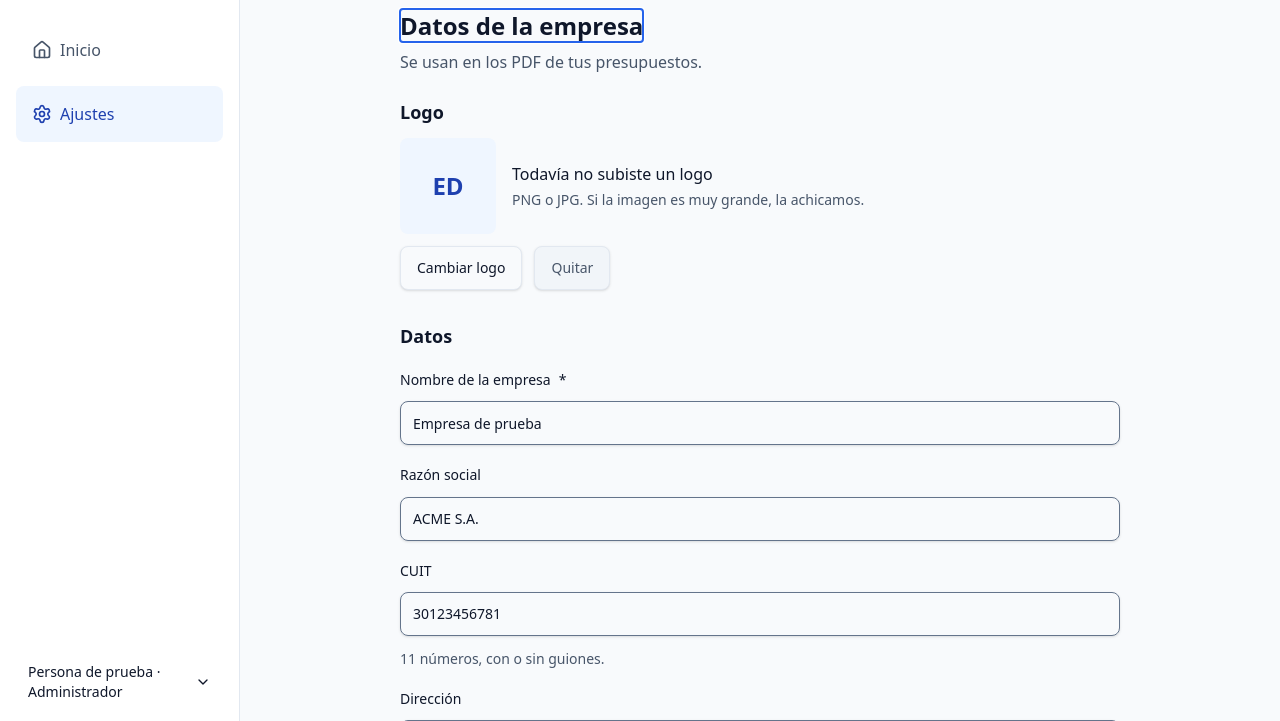
Test case: CompanyPage data form › explains the CUIT format when the digits are not 11
Expected: the heading "Datos de la empresa" is shown, [400, 10, 643, 42]
Replace the text in the field labelled "CUIT" with "3-0123456789-1" at (760, 614), box [400, 592, 1120, 636]
(page scrolled)
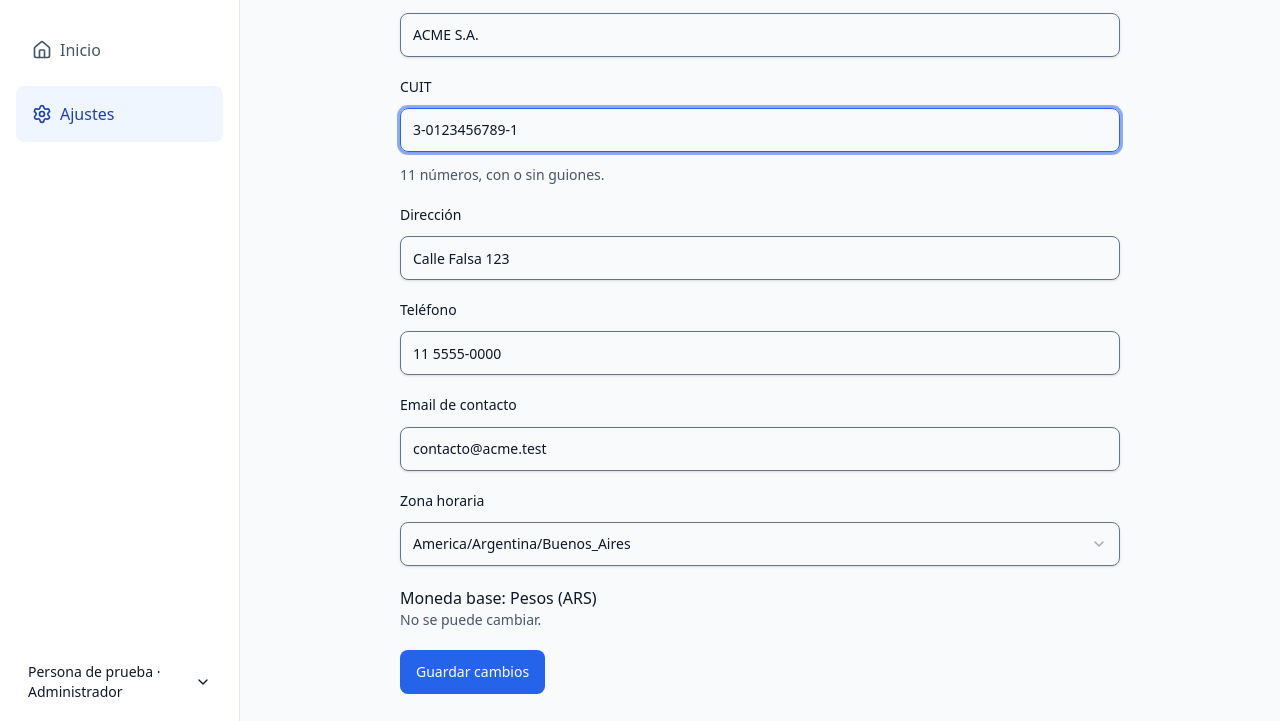
Click the button "Guardar cambios" at (473, 672), box [400, 650, 545, 694]
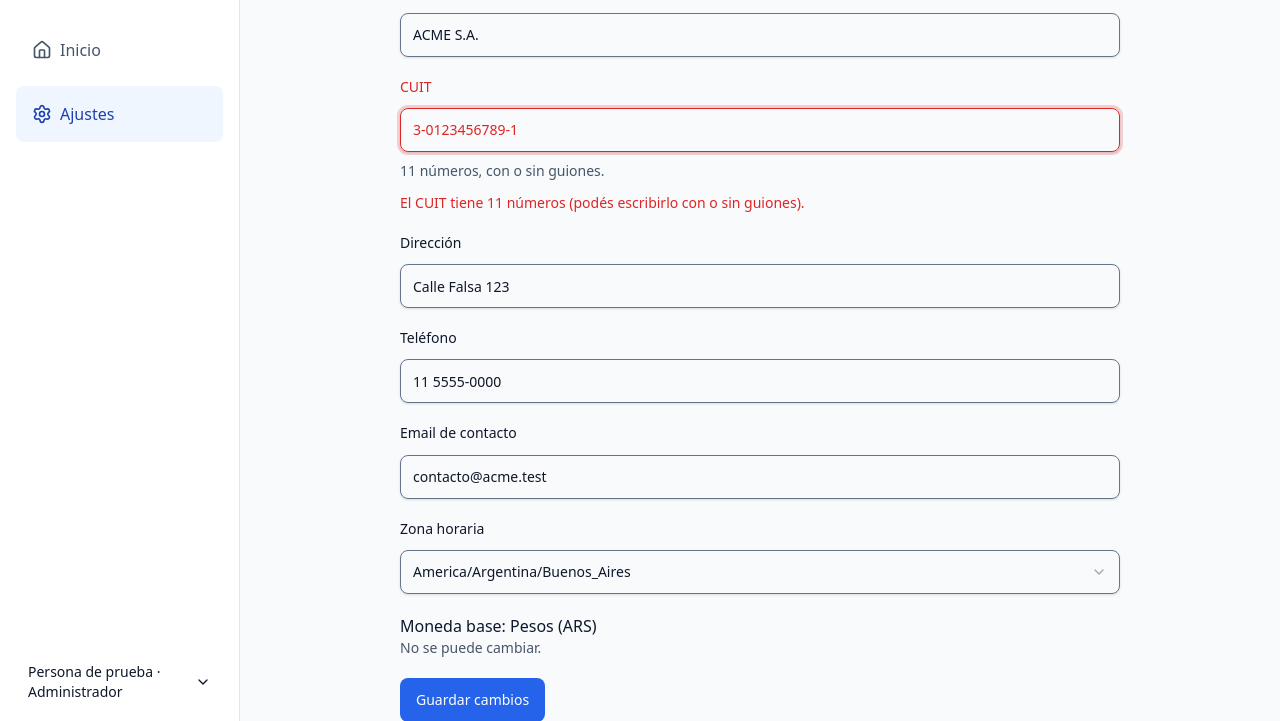
Now the text "El CUIT tiene 11 números (podés escribirlo con o sin guiones)." is shown, box [400, 193, 805, 212]
